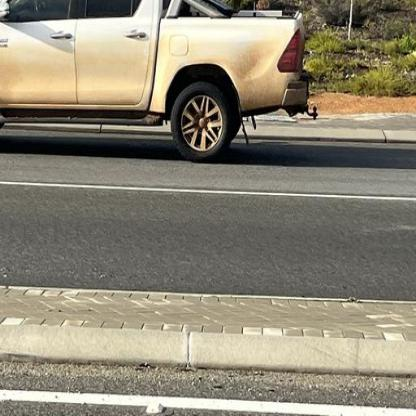Tire: (171, 83, 234, 164)
